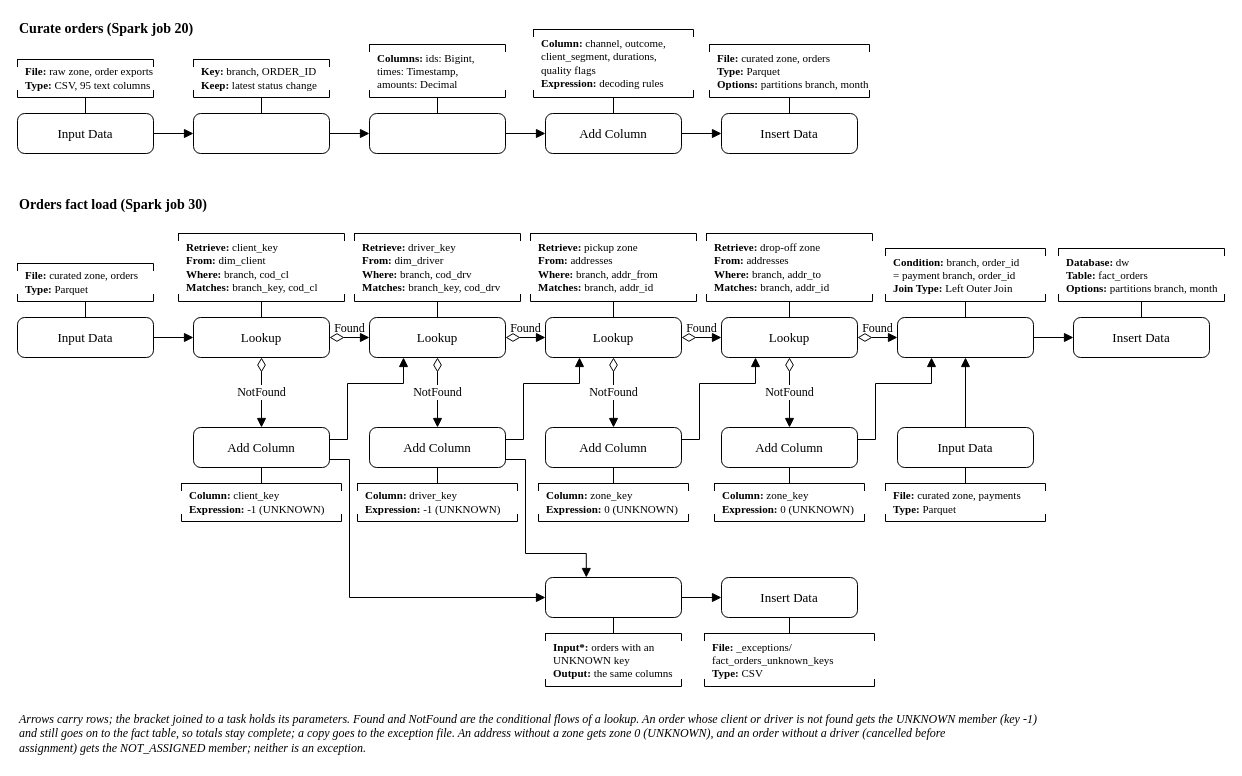
The diagram is 1242 pixels wide and 776 high, and some of its shapes have lost their labels. Each missing label, with the centre of its shape:
"Convert Column" belongs at [437,133].
"Join" belongs at [965,337].
"Remove Duplicates" belongs at [261,133].
"Union" belongs at [613,597].
